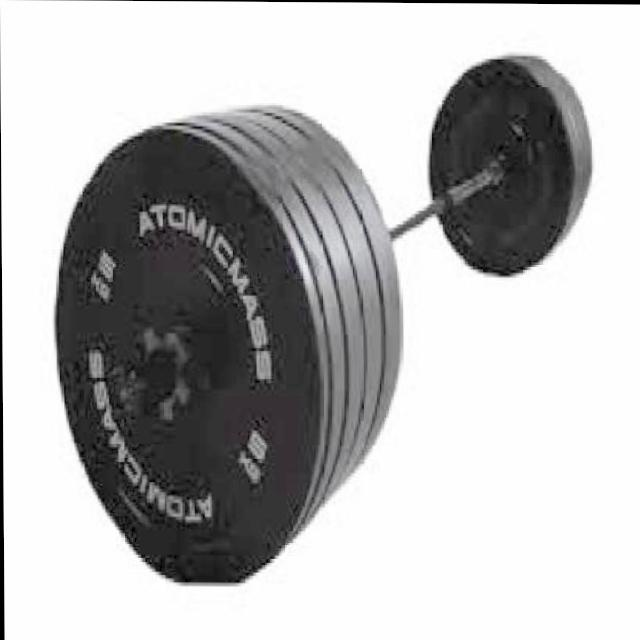barbell: (51, 118, 332, 594)
